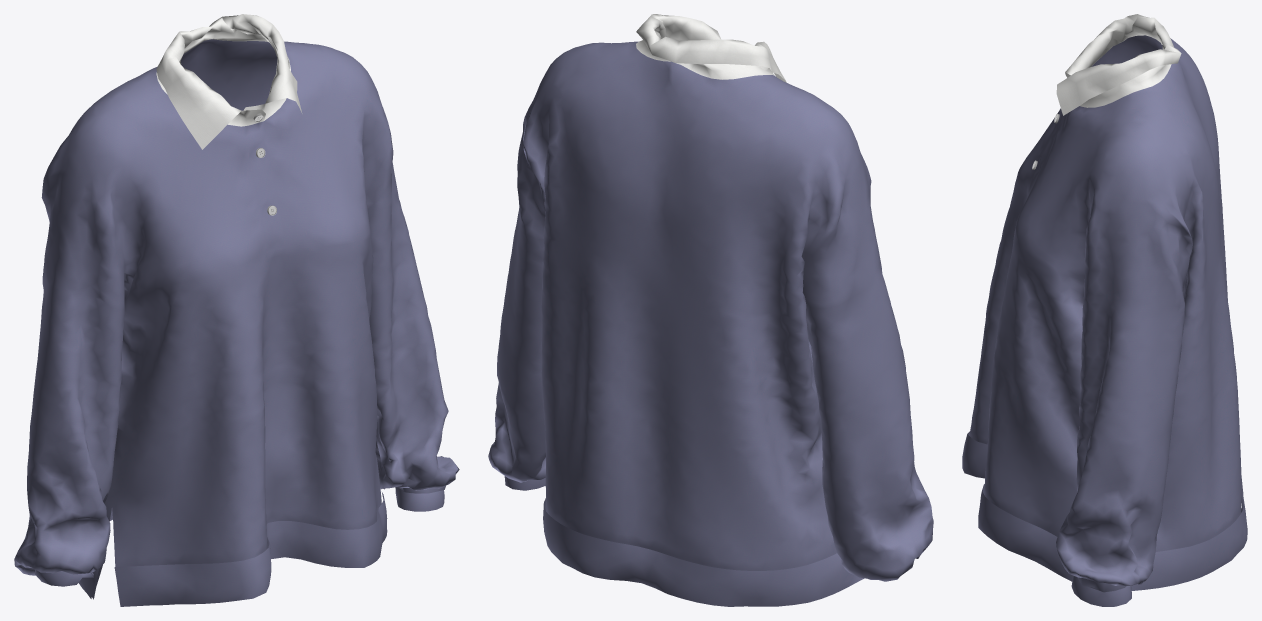
3 views of the same model, side by side, from view 1: azimuth 30°, elevation 25°; view 2: azimuth 150°, elevation 25°; view 3: azimuth 270°, elevation 25° (orthographic). The views are drawn at different scales.
Parts seen in each view (by area): view 1: Pattern2D_3346071, Pattern2D_3477746, Pattern2D_3483599, Pattern2D_3445324, Pattern2D_614027 (×2), Pattern2D_3442182, Pattern2D_420041, Pattern2D_3459562, Pattern2D_3424674, Pattern2D_420022, Pattern2D_420052, Pattern2D_420074 (+19 smaller); view 2: Pattern2D_3459562, Pattern2D_3462828, Pattern2D_3445324, Pattern2D_614552 (×2), Pattern2D_430427, Pattern2D_501064, Pattern2D_430405, Pattern2D_501049, Pattern2D_3424674, Pattern2D_430416, Pattern2D_3442182, Pattern2D_363371 (+13 smaller); view 3: Pattern2D_3459562, Pattern2D_3442182, Pattern2D_3346071, Pattern2D_3483599, Pattern2D_3420210, Pattern2D_3462828, Pattern2D_614027, Pattern2D_614552, Pattern2D_533716, Pattern2D_325179, Pattern2D_420041, Pattern2D_365664 (+17 smaller).
Part boxes in pixels (box(x1,y1,x2,y2)): Pattern2D_3346071: box(112, 383, 380, 565); Pattern2D_3477746: box(76, 81, 265, 291); Pattern2D_3483599: box(264, 50, 390, 247); Pattern2D_3445324: box(14, 420, 116, 575); Pattern2D_614027 (×2): box(114, 492, 387, 606); Pattern2D_3442182: box(375, 334, 459, 490); Pattern2D_420041: box(123, 264, 372, 350); Pattern2D_3459562: box(44, 39, 364, 178); Pattern2D_3424674: box(41, 174, 124, 303); Pattern2D_420022: box(124, 236, 373, 318); Pattern2D_420052: box(123, 297, 371, 380); Pattern2D_420074: box(118, 357, 375, 433); Pattern2D_3459562: box(523, 41, 860, 306); Pattern2D_3462828: box(541, 372, 836, 568); Pattern2D_3445324: box(822, 400, 933, 581); Pattern2D_614552 (×2): box(543, 498, 864, 606); Pattern2D_430427: box(541, 340, 820, 438); Pattern2D_501064: box(542, 260, 811, 361); Pattern2D_430405: box(541, 286, 813, 386); Pattern2D_501049: box(543, 234, 807, 334); Pattern2D_3424674: box(801, 164, 882, 308); Pattern2D_430416: box(541, 315, 818, 408); Pattern2D_3442182: box(488, 327, 545, 482); Pattern2D_363371: box(815, 345, 906, 415); Pattern2D_3459562: box(1124, 35, 1222, 291); Pattern2D_3442182: box(1056, 426, 1170, 586); Pattern2D_3346071: box(969, 314, 1079, 534); Pattern2D_3483599: box(1015, 92, 1133, 282); Pattern2D_3420210: box(1083, 202, 1192, 313); Pattern2D_3462828: box(1156, 382, 1241, 550); Pattern2D_614027: box(962, 431, 1072, 581); Pattern2D_614552: box(1131, 475, 1247, 590); Pattern2D_533716: box(1056, 43, 1181, 115); Pattern2D_325179: box(1082, 302, 1184, 343); Pattern2D_420041: box(1001, 207, 1082, 343); Pattern2D_365664: box(1080, 374, 1176, 421).
Size of the model in its own units: 58.75 by 69.14 by 35.98.
